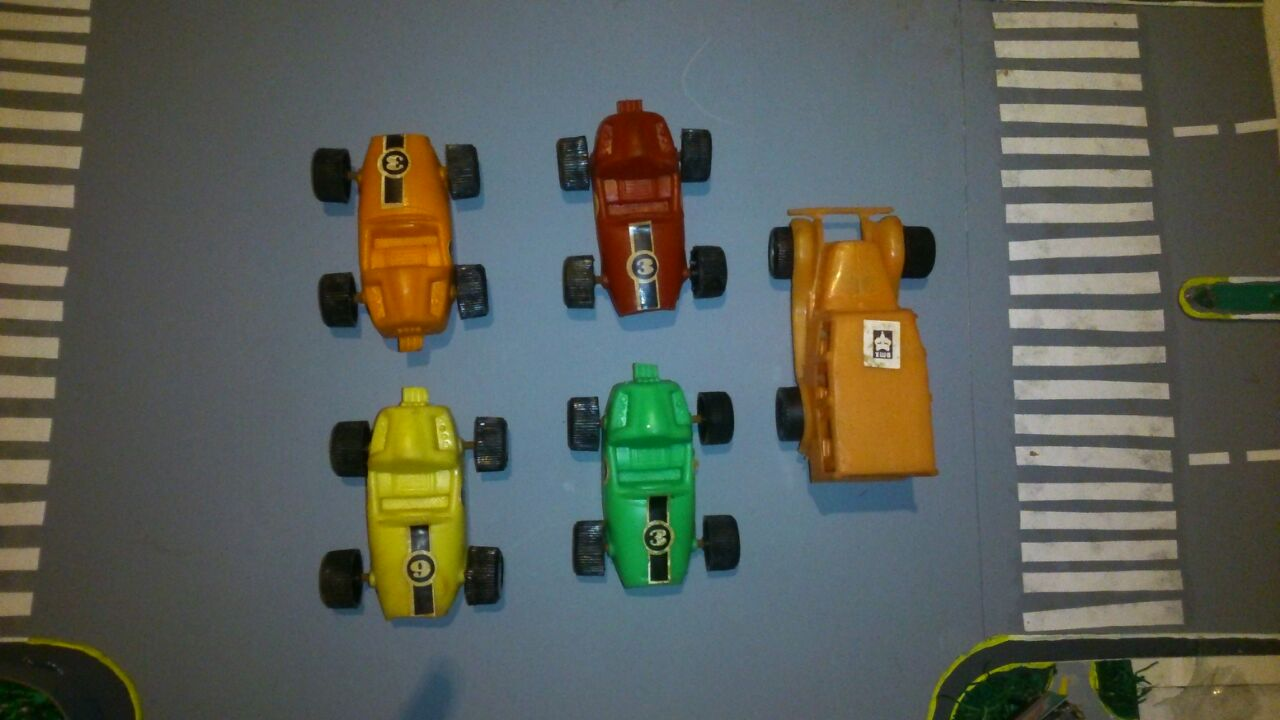amarillo: (324, 388, 503, 623)
naranja: (313, 131, 493, 350)
rojo: (554, 99, 734, 317)
verde: (568, 364, 742, 592)
